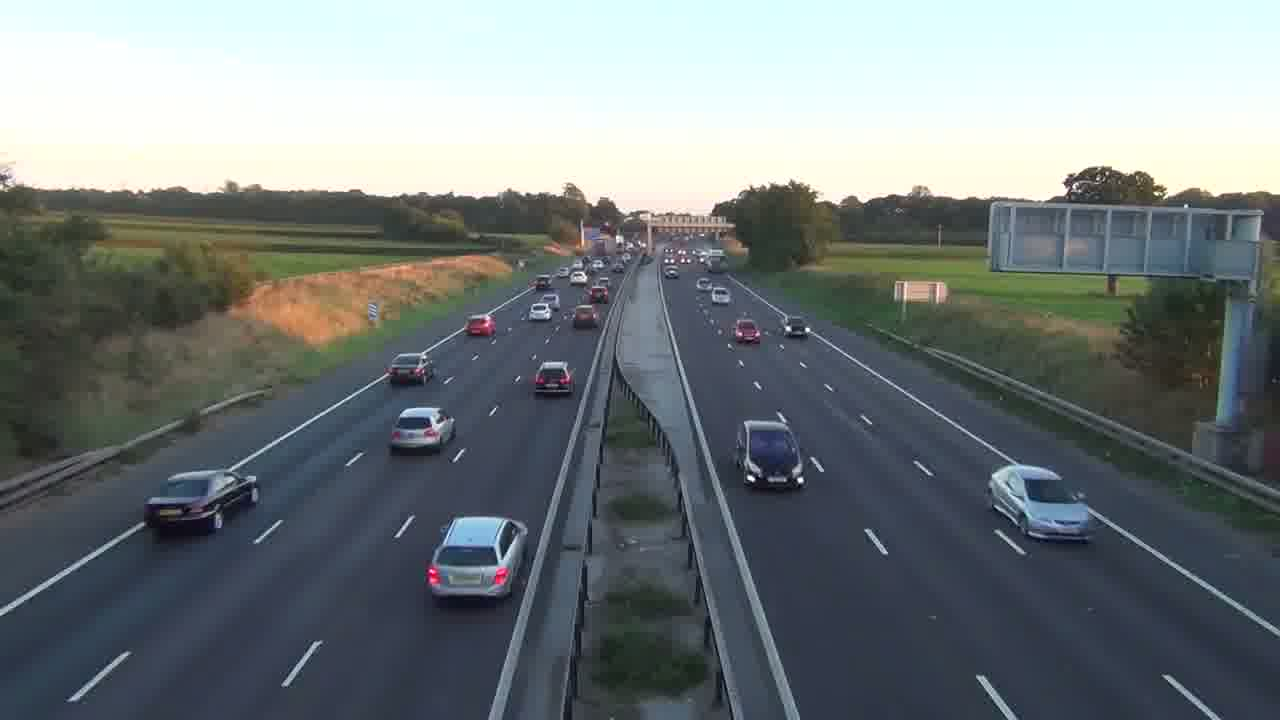car: (425, 515, 529, 603), (988, 463, 1091, 543), (143, 468, 259, 536), (734, 417, 806, 491), (388, 405, 456, 454), (385, 351, 433, 386), (533, 360, 575, 398), (464, 311, 497, 338), (572, 304, 599, 330)
truck: (143, 468, 259, 536)
